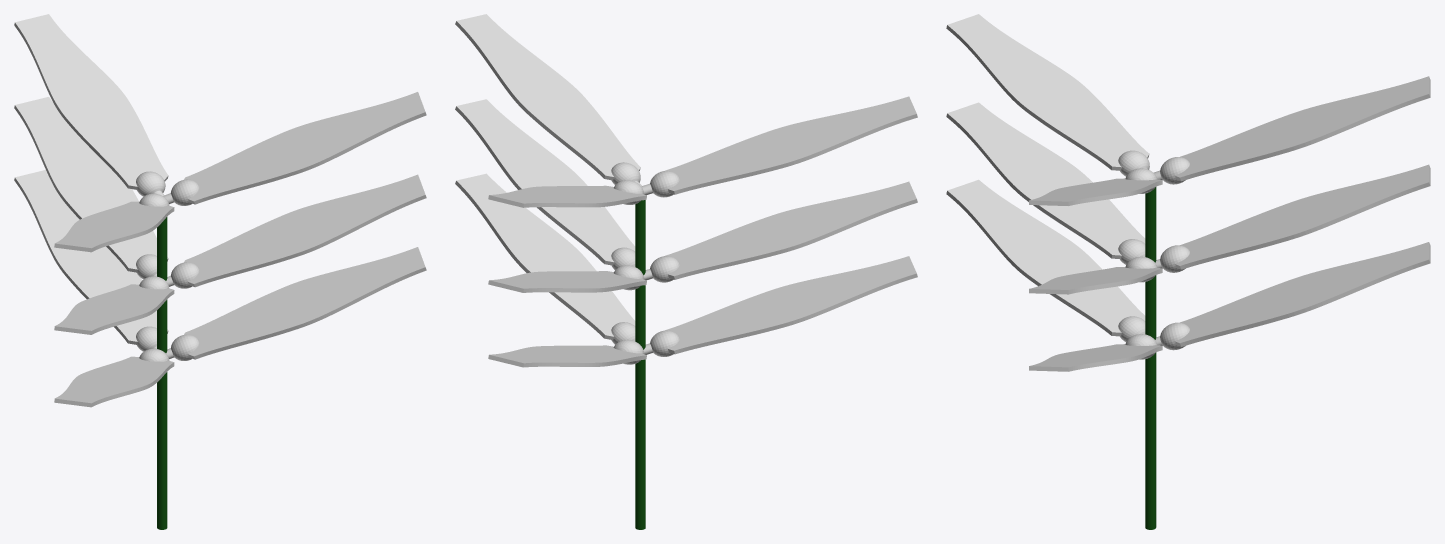
Rendered from Seaweed2.fbx.
The picture shows the model from 3 angles, left to right: view 1: azimuth 30°, elevation 25°; view 2: azimuth 150°, elevation 25°; view 3: azimuth 270°, elevation 25°; orthographic projection. The views are drawn at different scales.
Visible parts, largest first — view 1: Plane.002, Plane.008, Plane.007, Plane.006, Plane.001, Plane, Plane.004, Plane.005, Plane.003, Cylinder; view 2: Plane.008, Plane.005, Plane.003, Plane.004, Plane.007, Plane.006, Cylinder, Plane.001, Plane, Plane.002; view 3: Plane.005, Plane.004, Plane.003, Plane.002, Plane, Plane.001, Cylinder, Plane.006, Plane.008, Plane.007.
Part boxes in pixels (x1,y1,x2,y2): Plane.002: (14,14,168,196); Plane.008: (163,92,426,205); Plane.007: (166,174,426,288); Plane.006: (166,247,426,360); Plane.001: (14,97,168,279); Plane: (14,170,168,351); Plane.004: (54,276,174,334); Plane.005: (54,193,174,252); Plane.003: (54,348,174,407); Cylinder: (157,217,167,529); Plane.008: (455,14,641,186); Plane.005: (641,96,917,197); Plane.003: (644,256,917,356); Plane.004: (644,181,917,282); Plane.007: (455,99,635,270); Plane.006: (455,173,635,344); Cylinder: (635,200,645,529); Plane.001: (488,265,646,292); Plane: (488,339,646,367); Plane.002: (488,180,646,207); Plane.005: (946,14,1149,176); Plane.004: (946,102,1145,264); Plane.003: (946,179,1145,341); Plane.002: (1154,76,1430,184); Plane: (1155,242,1430,350); Plane.001: (1155,164,1430,272); Cylinder: (1145,187,1156,529); Plane.006: (1029,334,1162,371); Plane.008: (1029,168,1162,205); Plane.007: (1029,256,1162,294).
Size of the model in its own units: 1856 by 1804 by 1789.
